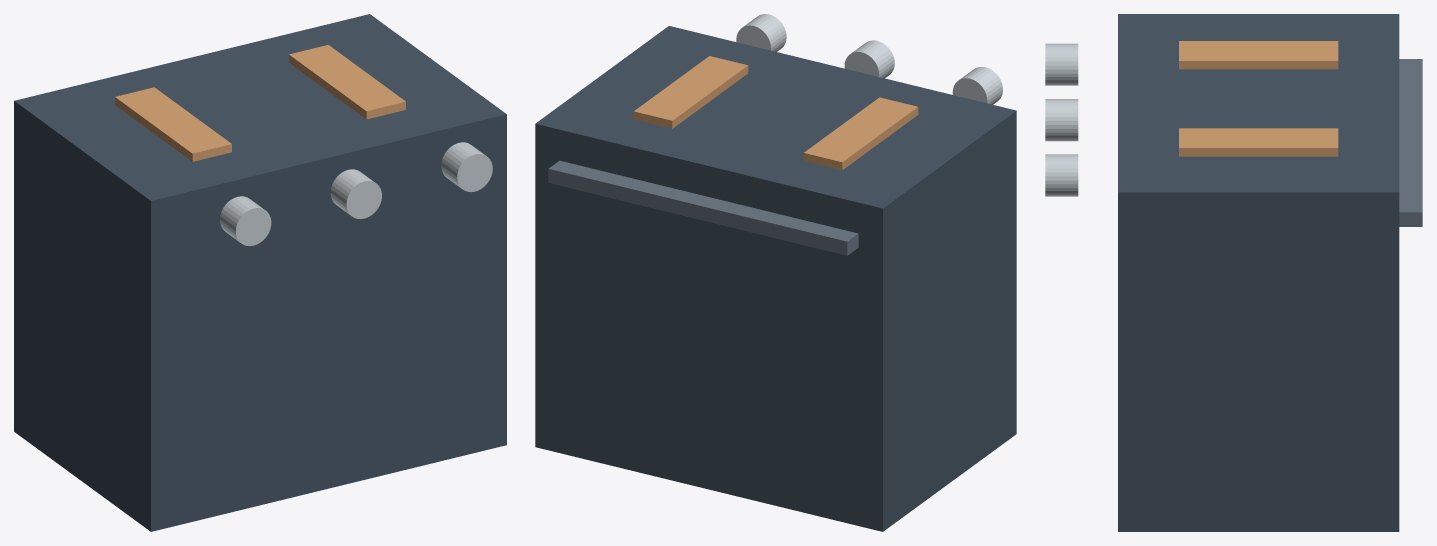
The model's file is transformer.glb.
3 views of the same model, side by side, from view 1: azimuth 30°, elevation 25°; view 2: azimuth 150°, elevation 25°; view 3: azimuth 270°, elevation 25° (orthographic). The views are drawn at different scales.
Parts seen in each view (by area): view 1: transformer_0, transformer_4, transformer_5, transformer_8, transformer_7, transformer_6; view 2: transformer_0, transformer_1, transformer_4, transformer_5, transformer_7, transformer_8, transformer_6; view 3: transformer_0, transformer_5, transformer_4, transformer_1, transformer_8, transformer_6, transformer_7.
Boxes of the visible parts, <box> form: transformer_0: <box>14,14,506,531</box>; transformer_4: <box>115,87,231,161</box>; transformer_5: <box>289,45,405,119</box>; transformer_8: <box>441,142,492,191</box>; transformer_7: <box>330,169,381,218</box>; transformer_6: <box>220,196,271,245</box>; transformer_0: <box>535,26,1016,531</box>; transformer_1: <box>548,160,858,255</box>; transformer_4: <box>803,97,918,170</box>; transformer_5: <box>633,56,748,128</box>; transformer_7: <box>844,40,894,78</box>; transformer_8: <box>736,14,786,51</box>; transformer_6: <box>952,66,1002,104</box>; transformer_0: <box>1118,14,1399,531</box>; transformer_5: <box>1179,128,1338,156</box>; transformer_4: <box>1179,41,1338,69</box>; transformer_1: <box>1399,59,1422,226</box>; transformer_8: <box>1045,154,1078,196</box>; transformer_6: <box>1045,43,1078,85</box>; transformer_7: <box>1045,99,1078,141</box>.
Bounding box in the file's own units: 0.9 × 0.82 × 0.805.
